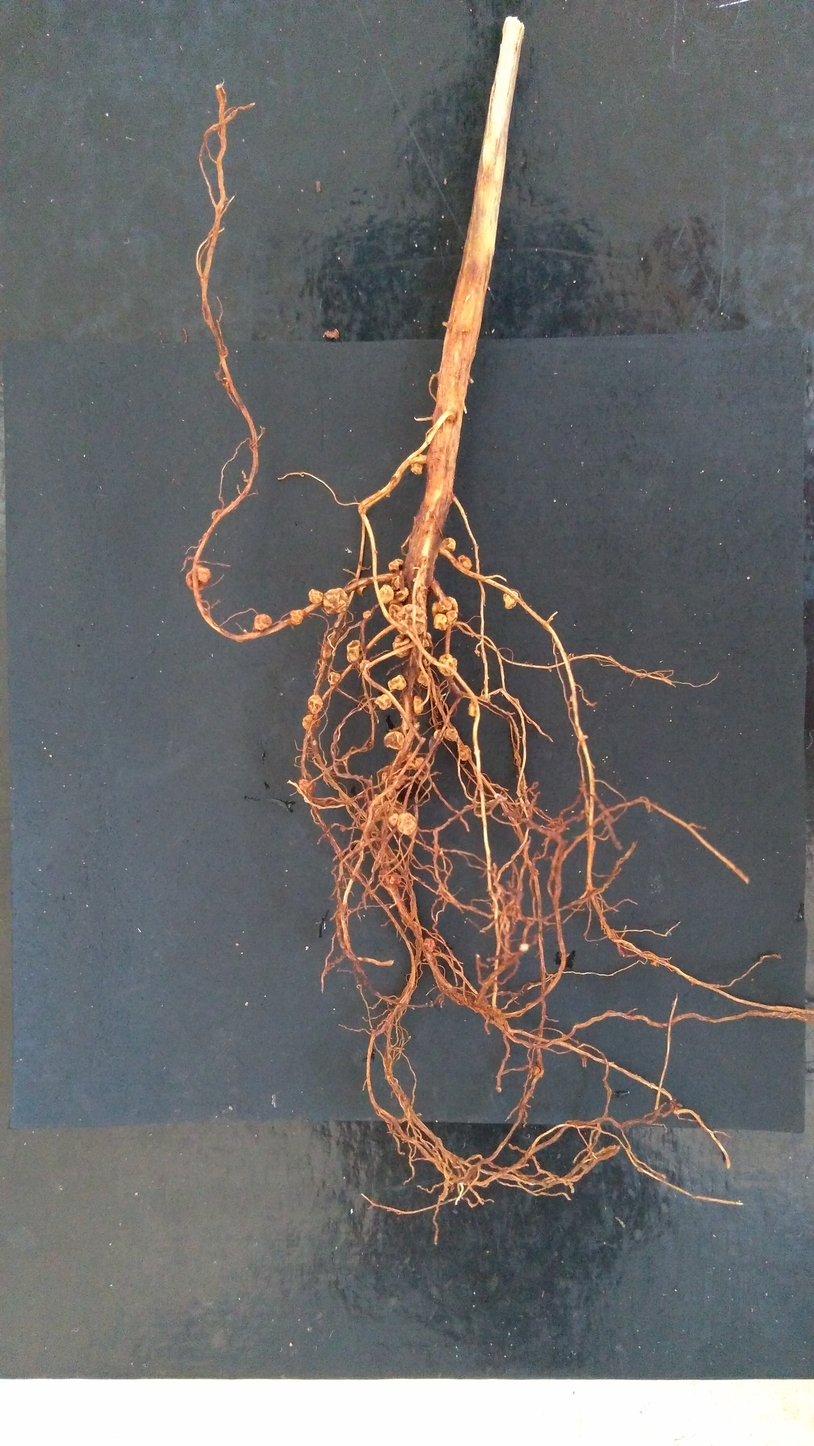nodule: (389, 604, 427, 635), (432, 597, 458, 630), (323, 588, 349, 614), (186, 568, 211, 590), (397, 812, 417, 835), (393, 633, 411, 657), (438, 654, 457, 676), (384, 731, 405, 750), (390, 587, 409, 605), (388, 675, 407, 691), (254, 614, 272, 630), (347, 640, 360, 662), (379, 584, 394, 603), (308, 695, 323, 714), (503, 590, 518, 609), (297, 779, 315, 794), (375, 694, 392, 709), (416, 587, 427, 610), (411, 454, 423, 475), (303, 715, 321, 729), (417, 670, 432, 686), (441, 537, 456, 552), (392, 774, 407, 789), (308, 589, 324, 603), (388, 558, 404, 572), (458, 555, 472, 571), (323, 637, 333, 658), (458, 745, 471, 761), (290, 610, 303, 625), (413, 695, 423, 714), (444, 728, 458, 741), (419, 632, 431, 647), (391, 575, 402, 591), (415, 757, 429, 769), (424, 937, 435, 952), (328, 671, 340, 684), (385, 784, 396, 798), (406, 751, 417, 764), (211, 509, 224, 520), (468, 702, 478, 716), (388, 812, 398, 826), (361, 822, 376, 831), (422, 653, 431, 668), (390, 872, 401, 884), (373, 793, 385, 803), (434, 729, 444, 740), (358, 585, 367, 597), (360, 660, 370, 670), (519, 943, 529, 952), (363, 611, 371, 619), (413, 721, 420, 730), (339, 826, 346, 832)
